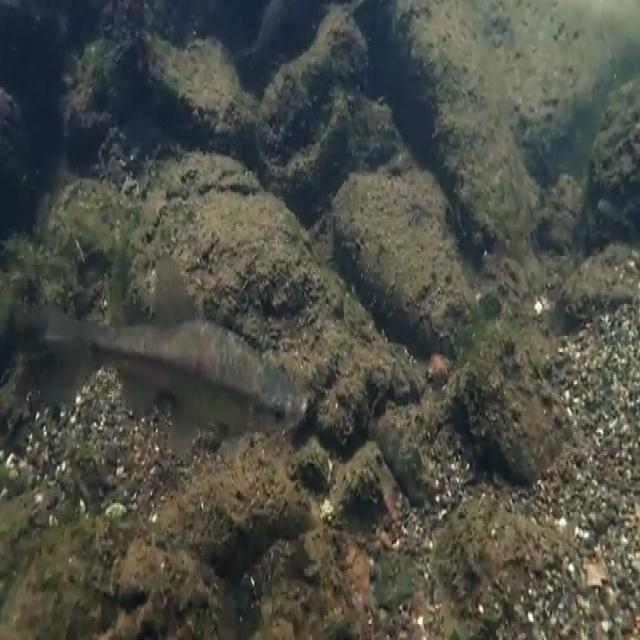Cakil Baligi: (28, 262, 308, 456)
